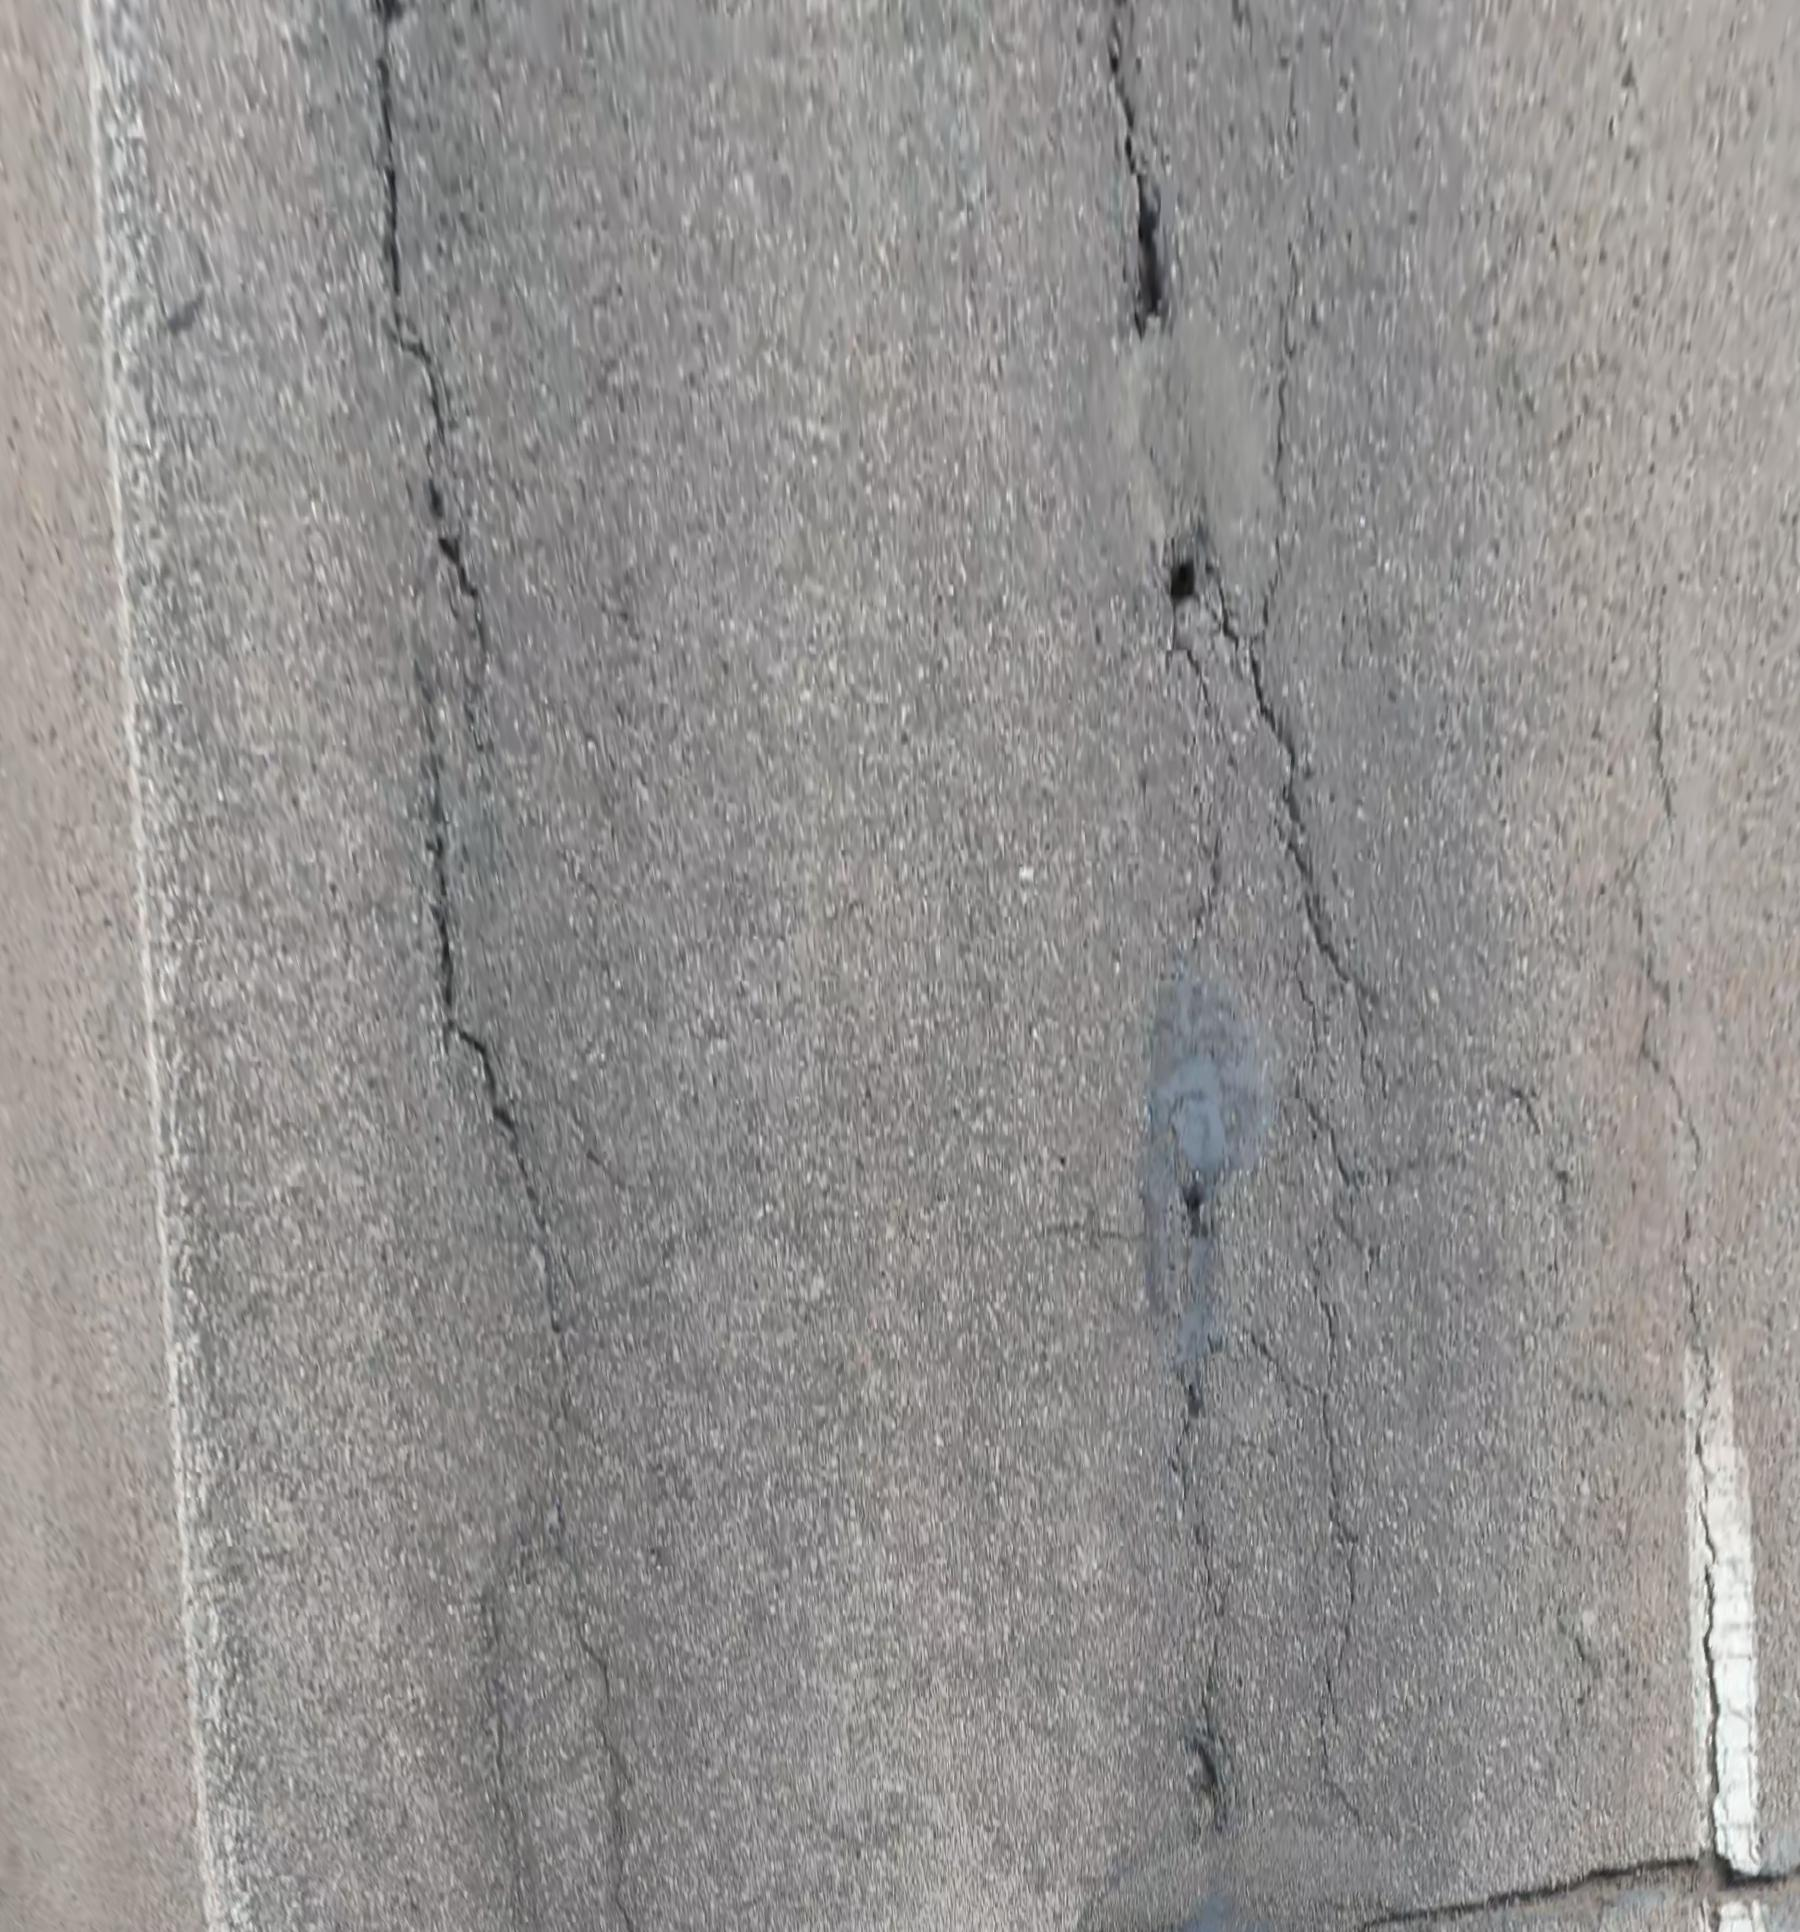pothole: (1370, 1868, 1800, 1932), (1130, 173, 1174, 333), (1171, 558, 1198, 602)
pothole_patch_poor: (1144, 966, 1274, 1416), (1111, 306, 1282, 633)
